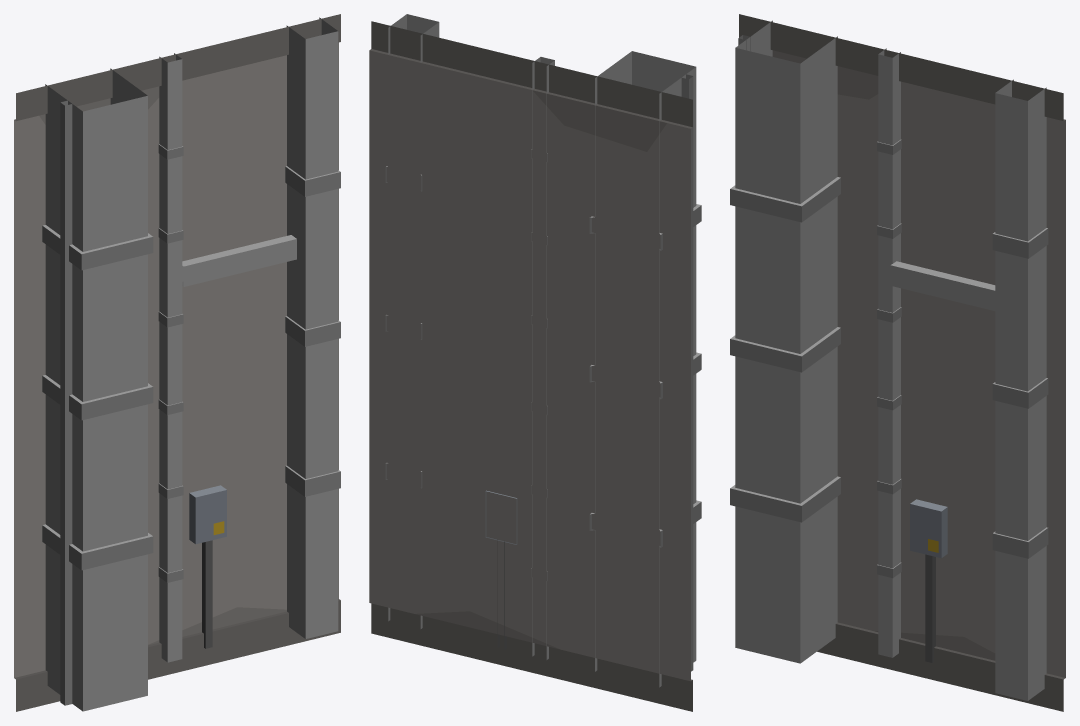
File: AI_Env_Wall_Factory_Pipes.fbx
The picture shows the model from 3 angles, left to right: view 1: azimuth 30°, elevation 25°; view 2: azimuth 150°, elevation 25°; view 3: azimuth 330°, elevation 25°; orthographic projection.
Parts seen in each view (by area): view 1: AI_Env_Wall_Factory_Pipes; view 2: AI_Env_Wall_Factory_Pipes; view 3: AI_Env_Wall_Factory_Pipes.
Part boxes in pixels (bbox=[...]): AI_Env_Wall_Factory_Pipes: bbox=[14, 14, 340, 711]; AI_Env_Wall_Factory_Pipes: bbox=[369, 14, 701, 711]; AI_Env_Wall_Factory_Pipes: bbox=[730, 14, 1065, 711].
Size of the model in its own units: 5 by 9.1 by 1.1.
